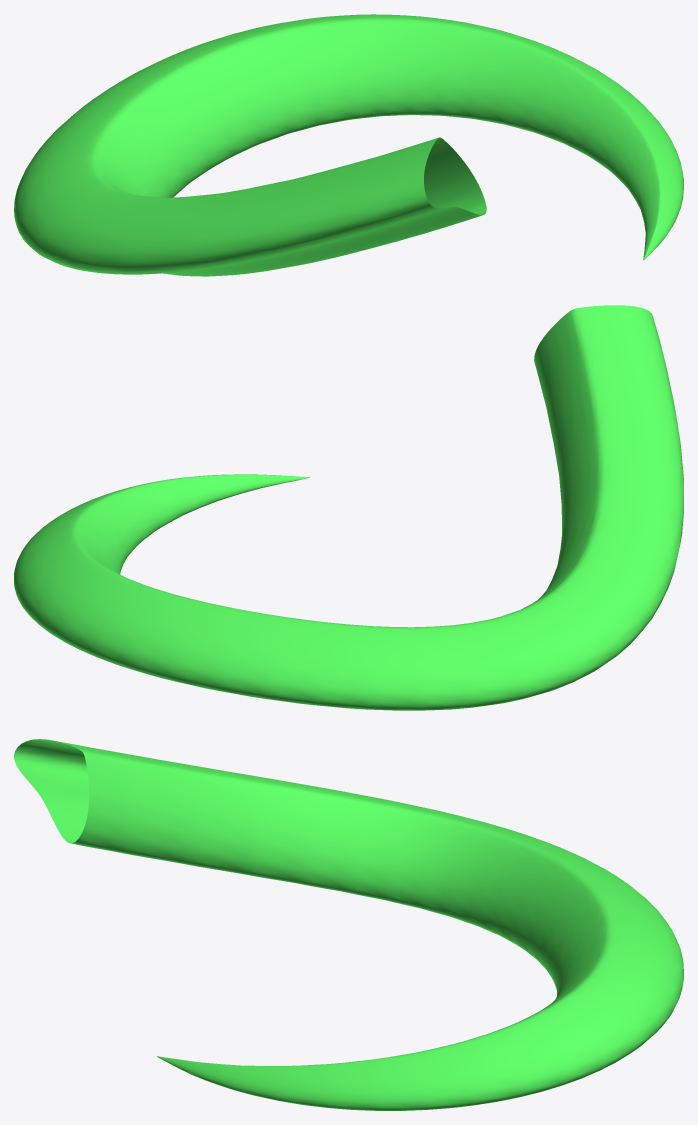
The picture shows the model from 3 angles, top to bottom: view 1: azimuth 30°, elevation 25°; view 2: azimuth 150°, elevation 25°; view 3: azimuth 270°, elevation 25°; orthographic projection. The views are drawn at different scales.
Parts seen in each view (by area): view 1: tail; view 2: tail; view 3: tail.
Boxes of the visible parts, x1,y1,x2,y2 form: tail: (14,14,683,276); tail: (14,305,683,710); tail: (14,739,683,1110).
Bounding box in the file's own units: 158 × 163 × 56.21.
